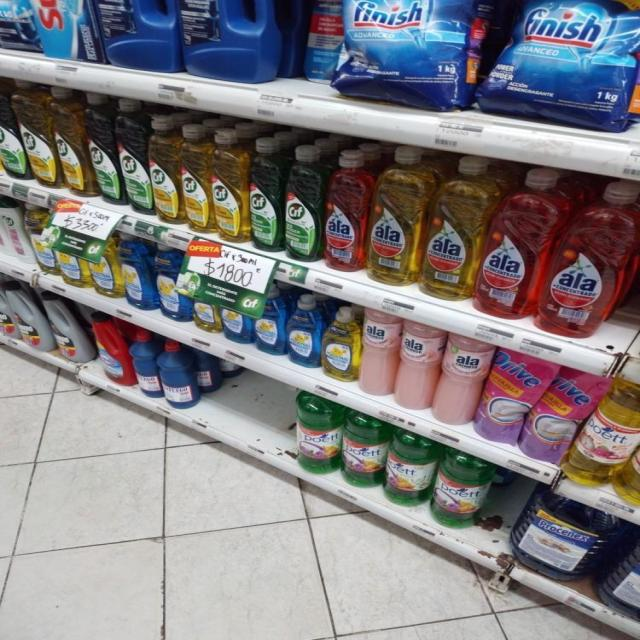ala_conc_amarillo: (422, 154, 479, 302), (368, 145, 422, 286)
ala_conc_rojo: (544, 179, 630, 339), (478, 166, 544, 322), (324, 147, 367, 273)
ala_crem_rosado: (436, 333, 481, 426), (396, 320, 437, 412), (361, 309, 396, 397)
cif_conc_bot_amarilla: (212, 126, 248, 244), (20, 80, 53, 188), (54, 86, 86, 196), (181, 121, 210, 234), (150, 116, 180, 225)
cif_conc_botella_verde: (285, 143, 323, 263), (249, 135, 283, 254), (119, 96, 148, 214), (88, 92, 116, 204), (0, 77, 20, 180)
magistral_con_amarillo: (323, 305, 359, 382), (193, 301, 219, 333)
magistral_con_azul: (287, 293, 321, 368), (157, 247, 189, 322), (254, 287, 284, 355)
